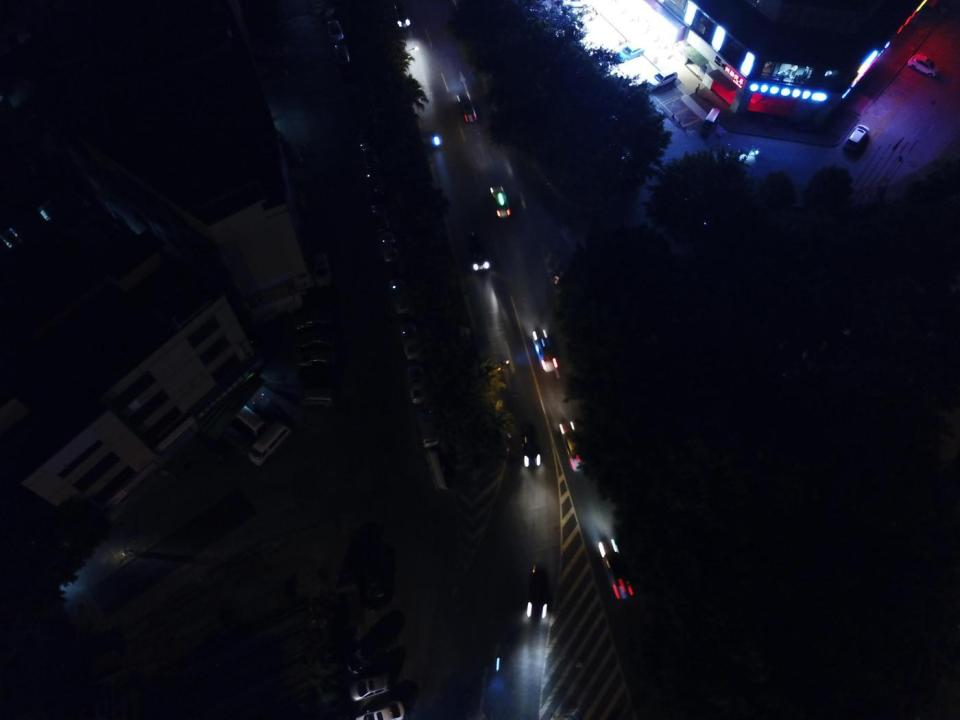car: (348, 613, 406, 677), (354, 546, 396, 614), (599, 534, 640, 603), (556, 418, 588, 470), (459, 223, 491, 271), (286, 307, 336, 336), (528, 326, 558, 374), (525, 562, 550, 617), (350, 674, 391, 703), (488, 178, 515, 222), (518, 420, 542, 468), (357, 698, 406, 720), (292, 329, 337, 352), (296, 351, 340, 374), (906, 53, 940, 79), (457, 86, 478, 123), (646, 68, 678, 91), (391, 2, 412, 32), (616, 43, 646, 62)
van: (246, 423, 292, 469), (300, 384, 339, 412), (843, 123, 871, 154), (700, 106, 722, 136)
